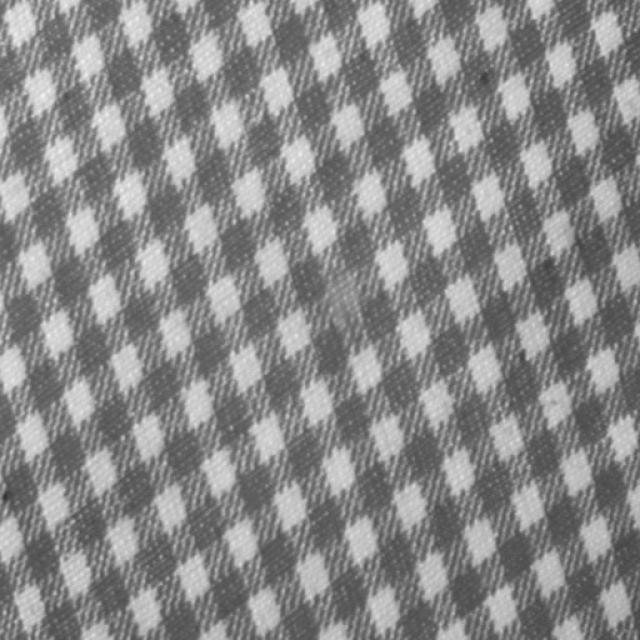Stain-Defect: (322, 270, 360, 328)
